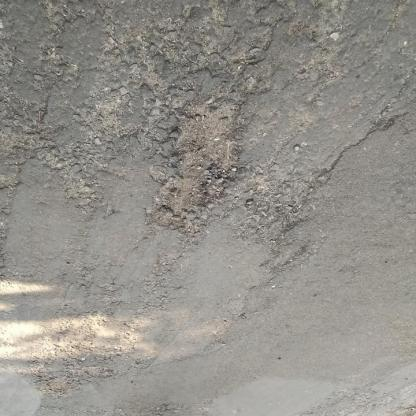pothole: (142, 99, 247, 237), (243, 185, 306, 240)
